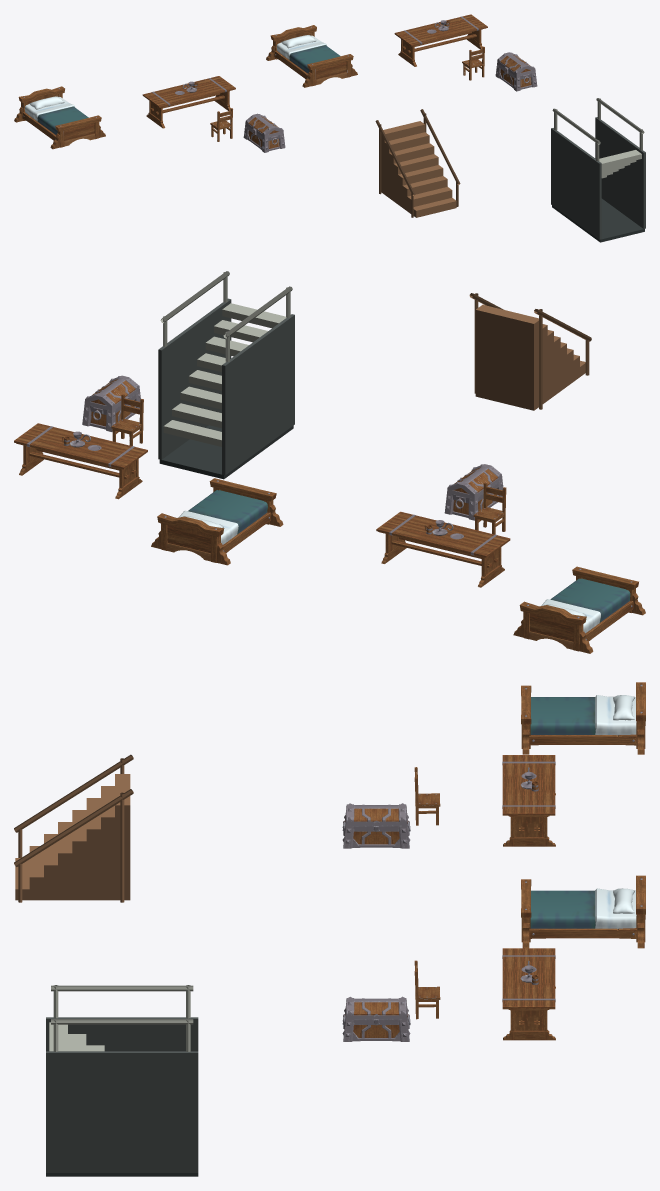
The model's file is realm_deepforge_0_upper.gltf.
3 renders of one model, top to bottom at view 1: azimuth 30°, elevation 25°; view 2: azimuth 150°, elevation 25°; view 3: azimuth 270°, elevation 25°, orthographic. The views are drawn at different scales.
Visible parts, largest first — view 1: bd1da508605bdb79854f41384228e25f0d870f0a2566d400426b7f09dc8e, 9a2512b436b63bb7ea06e287302379ec7cd545afa3634b62d51eac88505a (×2), 82100af1b928c00468f69366df486273076c34d42de27ff785a86b896db8, f4b04e3619cf212187b96076e7e940da50275113f8897ecbcd59f5921342 (×2), 974a21d8ae8e0859926ffd9e6f304d80a7c46e7e5ee3150935a76e128408 (×2), ddcc3d6e1ffba2575a9ad5c6e02f5f299d918638f3e83151b75ace5729ff (×2); view 2: bd1da508605bdb79854f41384228e25f0d870f0a2566d400426b7f09dc8e, 9a2512b436b63bb7ea06e287302379ec7cd545afa3634b62d51eac88505a (×2), 82100af1b928c00468f69366df486273076c34d42de27ff785a86b896db8, f4b04e3619cf212187b96076e7e940da50275113f8897ecbcd59f5921342 (×2), 974a21d8ae8e0859926ffd9e6f304d80a7c46e7e5ee3150935a76e128408 (×2), ddcc3d6e1ffba2575a9ad5c6e02f5f299d918638f3e83151b75ace5729ff (×2); view 3: bd1da508605bdb79854f41384228e25f0d870f0a2566d400426b7f09dc8e, 9a2512b436b63bb7ea06e287302379ec7cd545afa3634b62d51eac88505a (×2), 82100af1b928c00468f69366df486273076c34d42de27ff785a86b896db8, f4b04e3619cf212187b96076e7e940da50275113f8897ecbcd59f5921342 (×2), 974a21d8ae8e0859926ffd9e6f304d80a7c46e7e5ee3150935a76e128408 (×2).
Part boxes in pixels (x1=…): bd1da508605bdb79854f41384228e25f0d870f0a2566d400426b7f09dc8e: x1=551, y1=98, x2=645, y2=242; 9a2512b436b63bb7ea06e287302379ec7cd545afa3634b62d51eac88505a (×2): x1=14, y1=25, x2=357, y2=149; 82100af1b928c00468f69366df486273076c34d42de27ff785a86b896db8: x1=375, y1=109, x2=460, y2=217; f4b04e3619cf212187b96076e7e940da50275113f8897ecbcd59f5921342 (×2): x1=142, y1=14, x2=487, y2=128; 974a21d8ae8e0859926ffd9e6f304d80a7c46e7e5ee3150935a76e128408 (×2): x1=243, y1=52, x2=537, y2=152; ddcc3d6e1ffba2575a9ad5c6e02f5f299d918638f3e83151b75ace5729ff (×2): x1=210, y1=46, x2=484, y2=141; bd1da508605bdb79854f41384228e25f0d870f0a2566d400426b7f09dc8e: x1=158, y1=271, x2=294, y2=479; 9a2512b436b63bb7ea06e287302379ec7cd545afa3634b62d51eac88505a (×2): x1=151, y1=478, x2=645, y2=653; 82100af1b928c00468f69366df486273076c34d42de27ff785a86b896db8: x1=469, y1=293, x2=591, y2=410; f4b04e3619cf212187b96076e7e940da50275113f8897ecbcd59f5921342 (×2): x1=14, y1=423, x2=510, y2=587; 974a21d8ae8e0859926ffd9e6f304d80a7c46e7e5ee3150935a76e128408 (×2): x1=82, y1=375, x2=503, y2=520; ddcc3d6e1ffba2575a9ad5c6e02f5f299d918638f3e83151b75ace5729ff (×2): x1=111, y1=394, x2=506, y2=534; bd1da508605bdb79854f41384228e25f0d870f0a2566d400426b7f09dc8e: x1=46, y1=985, x2=198, y2=1176; 9a2512b436b63bb7ea06e287302379ec7cd545afa3634b62d51eac88505a (×2): x1=521, y1=682, x2=645, y2=948; 82100af1b928c00468f69366df486273076c34d42de27ff785a86b896db8: x1=14, y1=754, x2=133, y2=902; f4b04e3619cf212187b96076e7e940da50275113f8897ecbcd59f5921342 (×2): x1=502, y1=755, x2=555, y2=1040; 974a21d8ae8e0859926ffd9e6f304d80a7c46e7e5ee3150935a76e128408 (×2): x1=342, y1=803, x2=410, y2=1041.
Bounding box in the file's own units: 15.79 × 5.14 × 12.43.
Materials: 15 (13 with a texture image).
